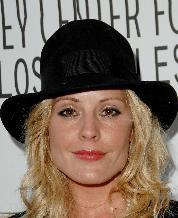face: (57, 97, 122, 164)
